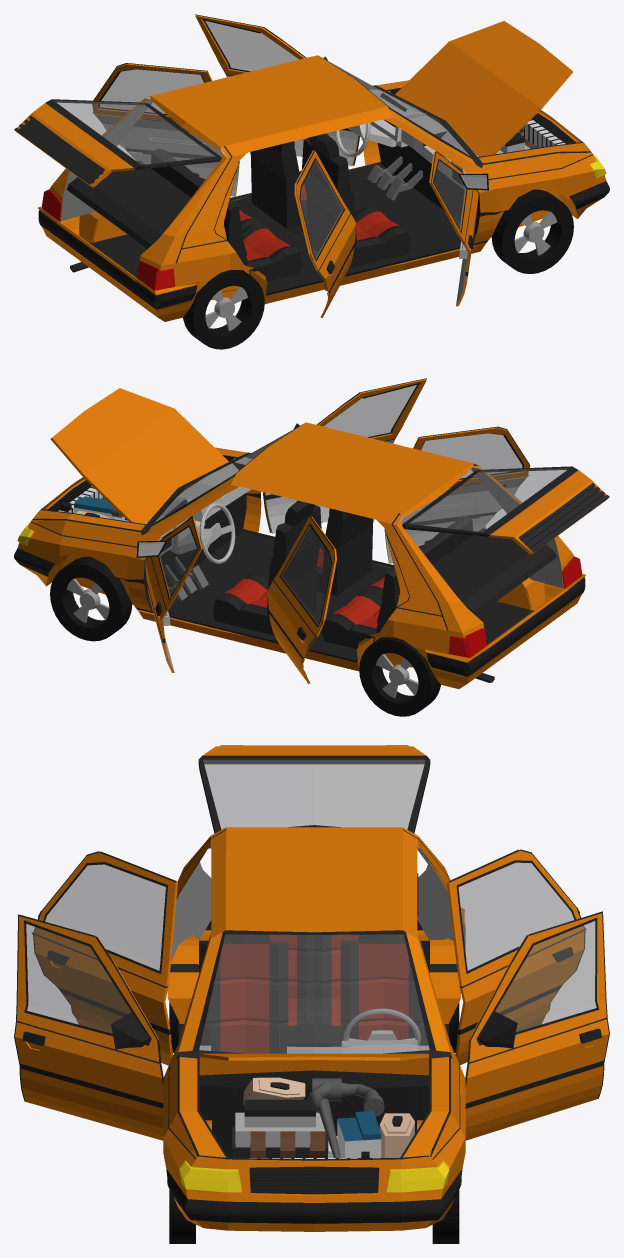
File: auto_205_dvere.glb
The picture shows the model from 3 angles, top to bottom: view 1: azimuth 30°, elevation 25°; view 2: azimuth 150°, elevation 25°; view 3: azimuth 270°, elevation 25°; orthographic projection. The views are drawn at different scales.
Parts seen in each view (by area): view 1: 205_Material_0, Capot, Chaises avant, object 8, Planche coffre, object 22, Pneu avant droit, object 18, object 6, object 13, object 17, Portes avant droite (+8 smaller); view 2: 205_Material_0, Capot, Chaises avant, object 8, Planche coffre, object 22, Pneu avant gauche, object 17, object 6, object 14, object 18, Portes avant gauche (+9 smaller); view 3: 205_Material_0, Pare brise, Portes avant droite, Portes avant gauche, Chaises avant, object 22, object 17, object 18, object 23, Moteur, object 24, Vitres avant droite (+8 smaller).
Boxes of the visible parts, x1,y1,x2,y2 form: 205_Material_0: (38,55,609,321); Capot: (395,21,572,156); Chaises avant: (250,133,410,268); object 8: (14,99,221,187); Planche coffre: (66,160,190,248); object 22: (54,100,215,164); Pneu avant droit: (491,189,573,273); object 18: (92,63,239,196); object 6: (151,148,301,281); object 13: (183,270,264,349); object 17: (294,150,356,317); Portes avant droite: (429,151,488,306); 205_Material_0: (14,422,585,688); Capot: (50,388,228,523); Chaises avant: (213,500,373,635); object 8: (402,466,609,554); Planche coffre: (433,528,556,615); object 22: (408,467,569,531); Pneu avant gauche: (50,556,132,641); object 17: (384,426,530,563); object 6: (322,516,472,648); object 14: (359,637,440,716); object 18: (267,515,336,683); Portes avant gauche: (136,517,202,672); 205_Material_0: (163,827,465,1231); Pare brise: (199,934,429,1053); Portes avant droite: (14,914,163,1140); Portes avant gauche: (465,911,609,1140); Chaises avant: (199,934,429,1053); object 22: (203,759,425,829); object 17: (32,851,177,1065); object 18: (446,849,586,1065); object 23: (45,864,165,970); Moteur: (232,1077,414,1157); object 24: (458,862,574,970); Vitres avant droite: (26,924,131,1033).
Size of the model in its own units: 3.7 by 1.32 by 2.94.
Materials: 3 (1 with a texture image).
